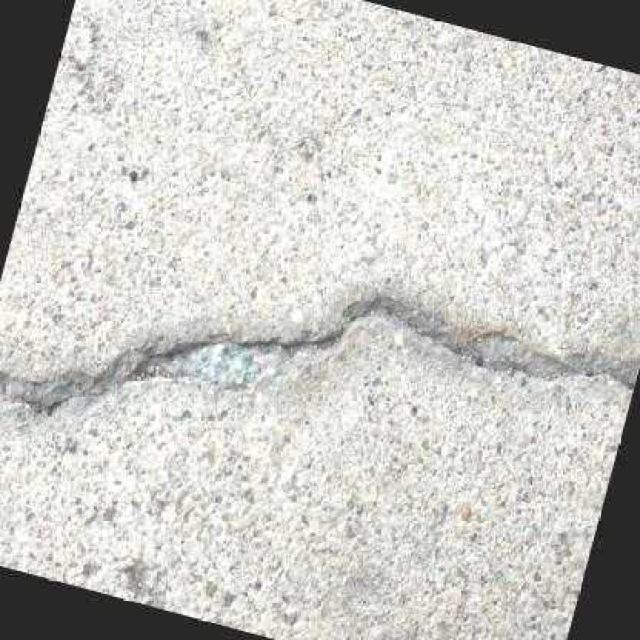D00: (0, 297, 637, 415)
